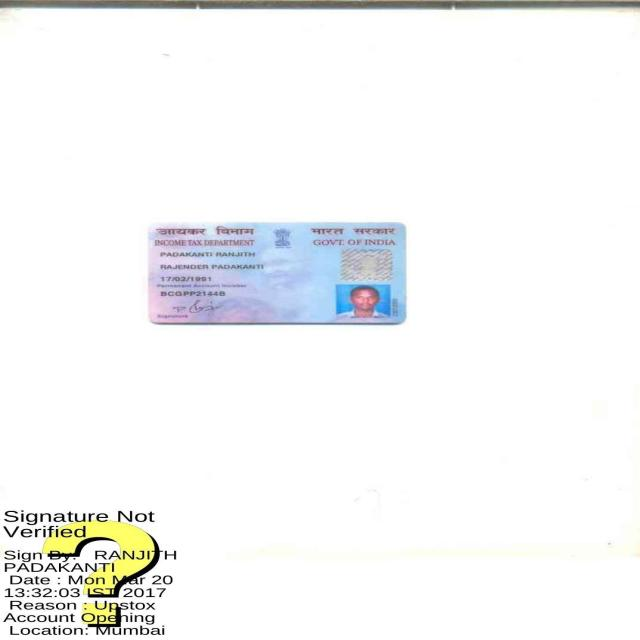pan_card: (145, 219, 402, 323)
